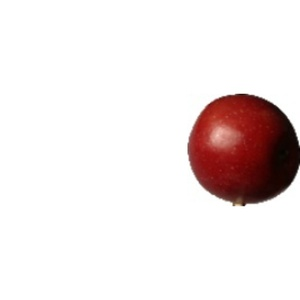maçã braeburn: (187, 93, 300, 202)
